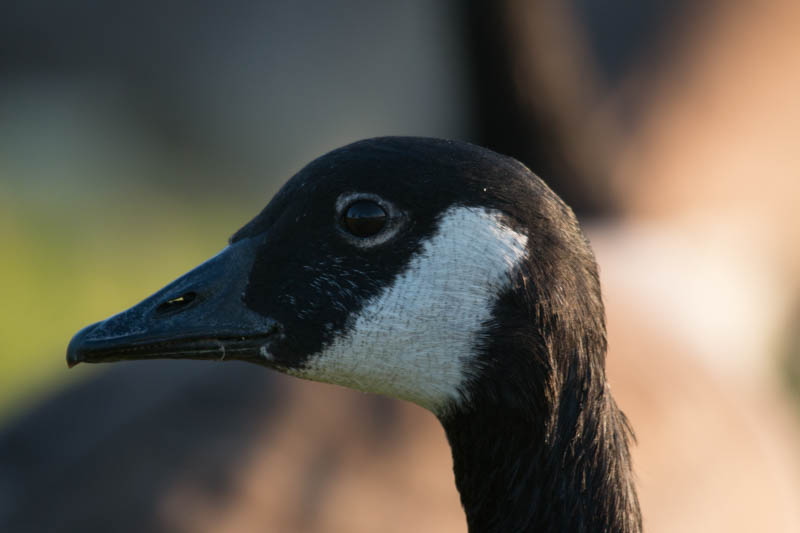goose-head: (66, 135, 606, 421)
